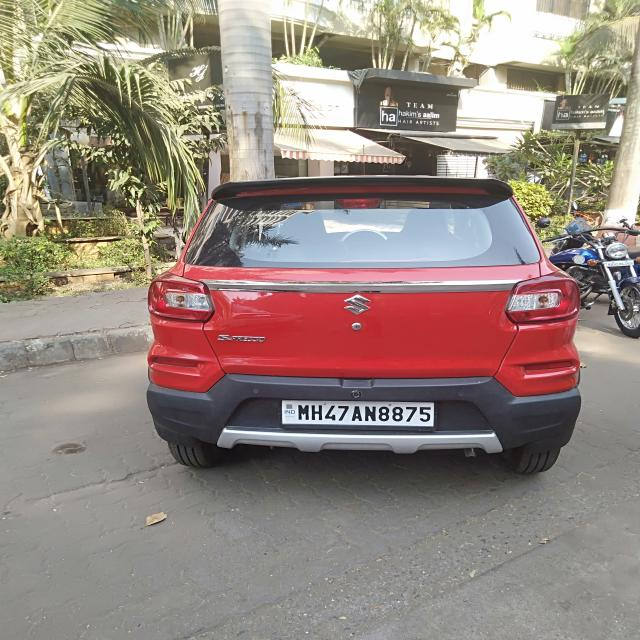Number-Plate: (285, 400, 434, 427)
